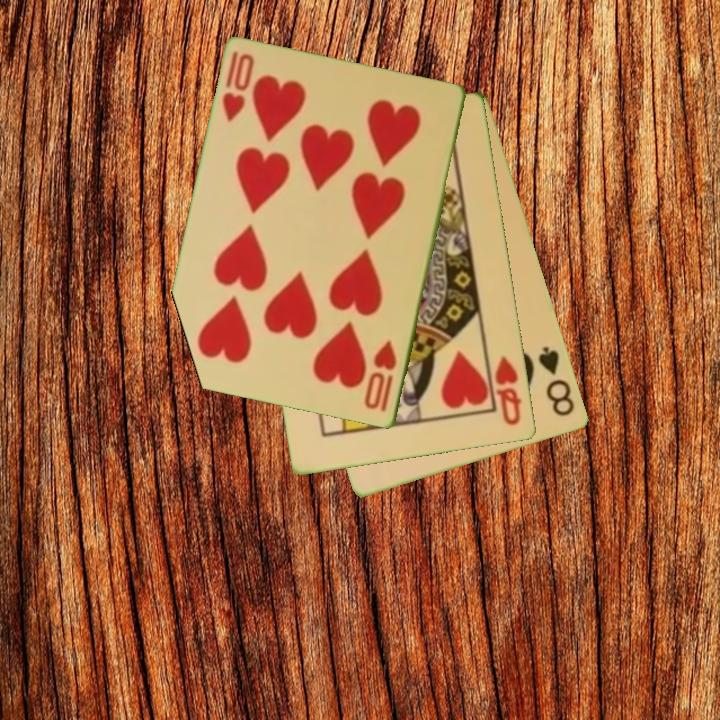10h: (361, 338, 400, 416), (219, 48, 258, 125)
8s: (535, 343, 578, 420)
Qh: (491, 352, 526, 429)
